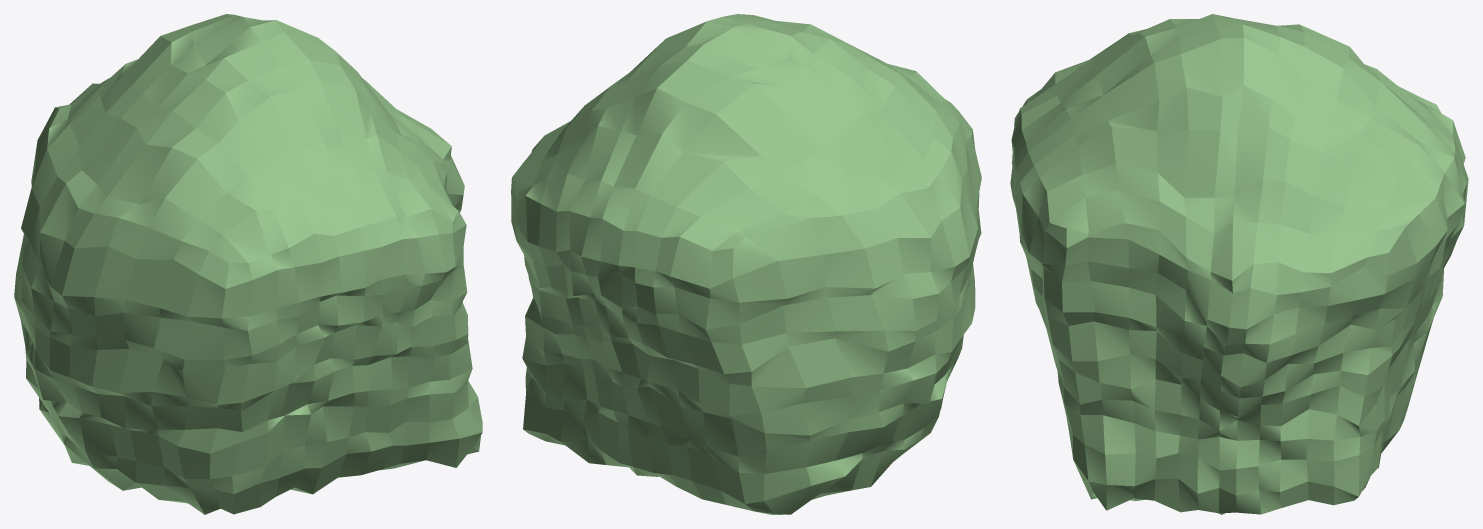
Rendered from TumorBush.fbx.
3 views of the same model, side by side, from view 1: azimuth 30°, elevation 25°; view 2: azimuth 150°, elevation 25°; view 3: azimuth 270°, elevation 25° (orthographic).
Visible parts, largest first — view 1: TumorBush; view 2: TumorBush; view 3: TumorBush.
Part boxes in pixels (bbox=[...]): TumorBush: bbox=[14, 14, 482, 514]; TumorBush: bbox=[511, 14, 981, 514]; TumorBush: bbox=[1010, 14, 1468, 514].
Bounding box in the file's own units: 1.38 × 1.33 × 1.31.
